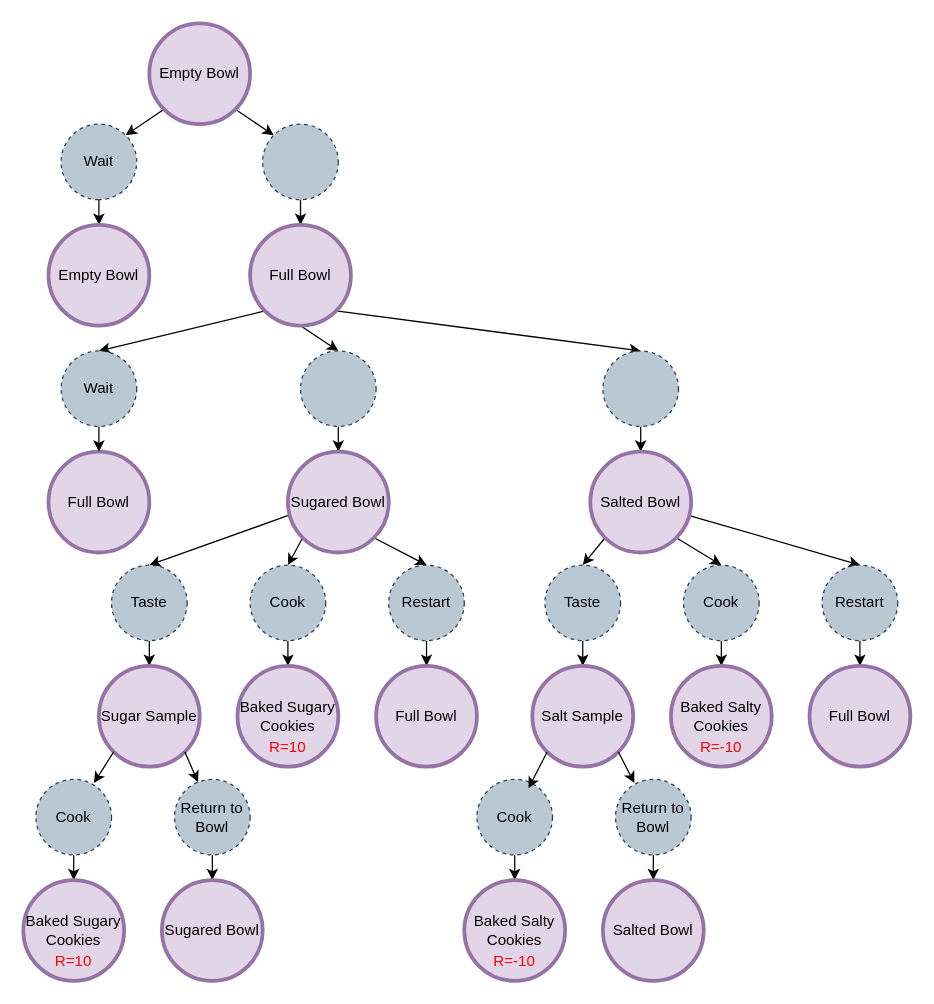
This 934x1004 diagram has some shape labels left out. Here are the shapes that lost their labels. From the top down, the centre of each, then its label:
(x=299, y=161): Prepare Dough
(x=337, y=388): Add Sugar
(x=640, y=388): Add Salt
